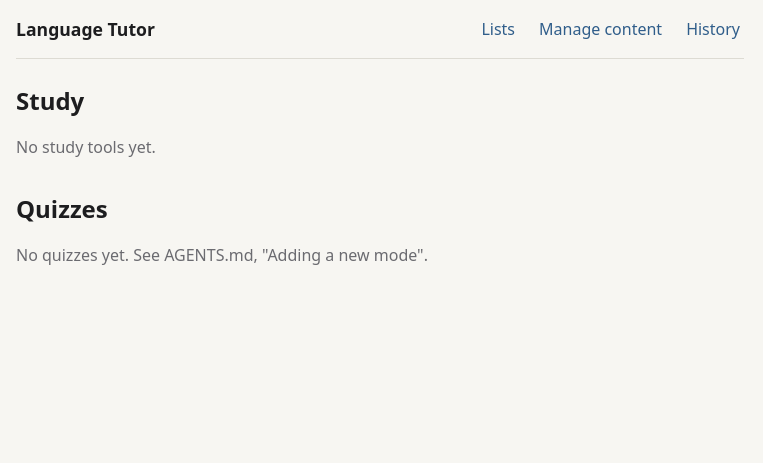
Test: App › a repeat of a mode that no longer exists shows an error
What coordinates should you click on to do the following:
click the button "History"
I would click on:
 (713, 29)
Its box is [682,17,744,41].
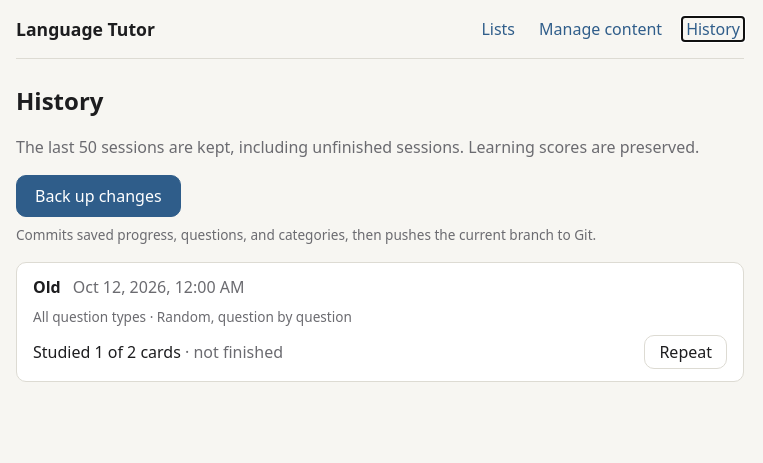
What coordinates should you click on to do the following:
click the button "Repeat"
I would click on:
 (686, 352)
Its box is [644,335,727,369].
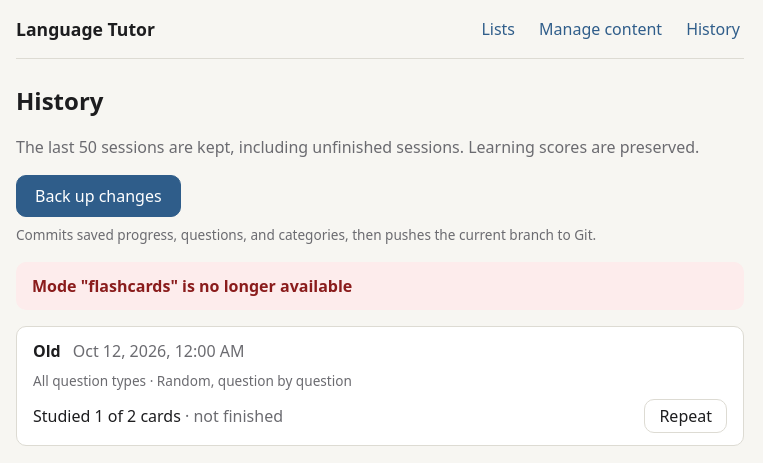
Expected: the message shows "no longer available", [32,275,352,297]
